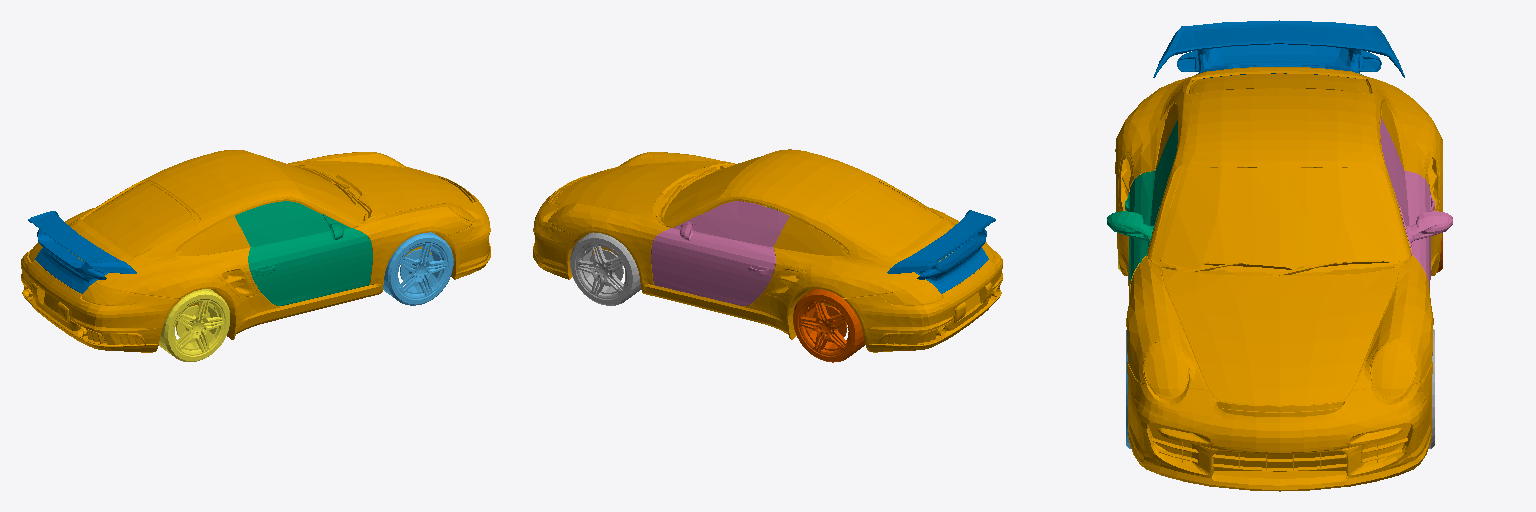
URDF robot description (predicted_car_example_1):
<?xml version="1.0"?>
<robot name="predicted_car_example_1">
  <link name="base_link">
    <visual>
      <geometry>
        <mesh filename="meshes/part_02.stl"/>
      </geometry>
    </visual>
    <visual>
      <geometry>
        <mesh filename="meshes/part_07.stl"/>
      </geometry>
    </visual>
    <visual>
      <geometry>
        <mesh filename="meshes/part_08.stl"/>
      </geometry>
    </visual>
    <visual>
      <geometry>
        <mesh filename="meshes/part_09.stl"/>
      </geometry>
    </visual>
    <visual>
      <geometry>
        <mesh filename="meshes/part_10.stl"/>
      </geometry>
    </visual>
    <visual>
      <geometry>
        <mesh filename="meshes/part_11.stl"/>
      </geometry>
    </visual>
    <visual>
      <geometry>
        <mesh filename="meshes/part_12.stl"/>
      </geometry>
    </visual>
    <visual>
      <geometry>
        <mesh filename="meshes/part_13.stl"/>
      </geometry>
    </visual>
    <visual>
      <geometry>
        <mesh filename="meshes/part_14.stl"/>
      </geometry>
    </visual>
    <visual>
      <geometry>
        <mesh filename="meshes/part_16.stl"/>
      </geometry>
    </visual>
  </link>
  <link name="link_user_sketch_1779206305003_J0">
    <visual>
      <origin xyz="-0.2641 0.1666 0.0713" rpy="0 0 0"/>
      <geometry>
        <mesh filename="meshes/part_17.stl"/>
      </geometry>
    </visual>
  </link>
  <joint name="joint_user_sketch_1779206305003_J0" type="continuous">
    <parent link="base_link"/>
    <child link="link_user_sketch_1779206305003_J0"/>
    <origin xyz="0.2641 -0.1666 -0.0713" rpy="0 0 0"/>
    <axis xyz="0.0000 -1.0000 0.0000"/>
  </joint>
  <link name="link_user_sketch_1779206305003_J1">
    <visual>
      <origin xyz="-0.1496 0.1858 0.0259" rpy="0 0 0"/>
      <geometry>
        <mesh filename="meshes/part_04.stl"/>
      </geometry>
    </visual>
  </link>
  <joint name="joint_user_sketch_1779206305003_J1" type="revolute">
    <parent link="base_link"/>
    <child link="link_user_sketch_1779206305003_J1"/>
    <origin xyz="0.1496 -0.1858 -0.0259" rpy="0 0 0"/>
    <axis xyz="0.0013 -0.0663 0.9978"/>
    <limit lower="0.0" upper="1.5708" effort="1000" velocity="1.0"/>
  </joint>
  <link name="link_user_sketch_1779206305003_J2">
    <visual>
      <origin xyz="0.2627 0.1659 0.0713" rpy="0 0 0"/>
      <geometry>
        <mesh filename="meshes/part_06.stl"/>
      </geometry>
    </visual>
  </link>
  <joint name="joint_user_sketch_1779206305003_J2" type="continuous">
    <parent link="base_link"/>
    <child link="link_user_sketch_1779206305003_J2"/>
    <origin xyz="-0.2627 -0.1659 -0.0713" rpy="0 0 0"/>
    <axis xyz="0.0000 -1.0000 0.0000"/>
  </joint>
  <link name="link_user_sketch_1779206305003_J3">
    <visual>
      <origin xyz="0.4020 -0.0029 -0.0642" rpy="0 0 0"/>
      <geometry>
        <mesh filename="meshes/part_15.stl"/>
      </geometry>
    </visual>
  </link>
  <joint name="joint_user_sketch_1779206305003_J3" type="revolute">
    <parent link="base_link"/>
    <child link="link_user_sketch_1779206305003_J3"/>
    <origin xyz="-0.4020 0.0029 0.0642" rpy="0 0 0"/>
    <axis xyz="0.0097 0.9999 -0.0076"/>
    <limit lower="0.0" upper="1.5708" effort="1000" velocity="1.0"/>
  </joint>
  <link name="link_user_sketch_1779206305003_J4">
    <visual>
      <origin xyz="0.2627 -0.1713 0.0713" rpy="0 0 0"/>
      <geometry>
        <mesh filename="meshes/part_05.stl"/>
      </geometry>
    </visual>
  </link>
  <joint name="joint_user_sketch_1779206305003_J4" type="continuous">
    <parent link="base_link"/>
    <child link="link_user_sketch_1779206305003_J4"/>
    <origin xyz="-0.2627 0.1713 -0.0713" rpy="0 0 0"/>
    <axis xyz="0.0000 1.0000 0.0000"/>
  </joint>
  <link name="link_user_sketch_1779206305003_J5">
    <visual>
      <origin xyz="-0.1487 -0.1866 0.0282" rpy="0 0 0"/>
      <geometry>
        <mesh filename="meshes/part_03.stl"/>
      </geometry>
    </visual>
  </link>
  <joint name="joint_user_sketch_1779206305003_J5" type="revolute">
    <parent link="base_link"/>
    <child link="link_user_sketch_1779206305003_J5"/>
    <origin xyz="0.1487 0.1866 -0.0282" rpy="0 0 0"/>
    <axis xyz="-0.0123 -0.0408 -0.9991"/>
    <limit lower="0.0" upper="1.5708" effort="1000" velocity="1.0"/>
  </joint>
  <link name="link_user_sketch_1779206305003_J6">
    <visual>
      <origin xyz="-0.2643 -0.1677 0.0713" rpy="0 0 0"/>
      <geometry>
        <mesh filename="meshes/part_00.stl"/>
      </geometry>
    </visual>
  </link>
  <joint name="joint_user_sketch_1779206305003_J6" type="continuous">
    <parent link="base_link"/>
    <child link="link_user_sketch_1779206305003_J6"/>
    <origin xyz="0.2643 0.1677 -0.0713" rpy="0 0 0"/>
    <axis xyz="0.0000 1.0000 0.0000"/>
  </joint>
  <link name="link_user_sketch_1779206305003_J7">
    <visual>
      <origin xyz="-0.4400 0.0274 0.0062" rpy="0 0 0"/>
      <geometry>
        <mesh filename="meshes/part_01.stl"/>
      </geometry>
    </visual>
  </link>
  <joint name="joint_user_sketch_1779206305003_J7" type="revolute">
    <parent link="base_link"/>
    <child link="link_user_sketch_1779206305003_J7"/>
    <origin xyz="0.4400 -0.0274 -0.0062" rpy="0 0 0"/>
    <axis xyz="0.0170 0.9994 0.0298"/>
    <limit lower="0.0" upper="1.5708" effort="1000" velocity="1.0"/>
  </joint>
</robot>

--- Facts derived from the render (not from the file) ---
The picture shows the robot from 3 angles, left to right: view 1: azimuth 30°, elevation 25°; view 2: azimuth 150°, elevation 25°; view 3: azimuth 270°, elevation 25°; orthographic projection.
Model predicted_car_example_1 with 9 links and 8 joints (4 revolute, 4 continuous), rooted at base_link, posed every joint at zero.
Visible links, largest first — view 1: base_link, link_user_sketch_1779206305003_J1, link_user_sketch_1779206305003_J7, link_user_sketch_1779206305003_J3, link_user_sketch_1779206305003_J0, link_user_sketch_1779206305003_J2; view 2: base_link, link_user_sketch_1779206305003_J5, link_user_sketch_1779206305003_J7, link_user_sketch_1779206305003_J3, link_user_sketch_1779206305003_J4, link_user_sketch_1779206305003_J6; view 3: base_link, link_user_sketch_1779206305003_J7, link_user_sketch_1779206305003_J3, link_user_sketch_1779206305003_J5, link_user_sketch_1779206305003_J1.
Boxes of the visible links, <box> form: base_link: <box>21,150,490,352</box>; link_user_sketch_1779206305003_J1: <box>235,201,372,305</box>; link_user_sketch_1779206305003_J7: <box>298,161,467,216</box>; link_user_sketch_1779206305003_J3: <box>28,211,136,293</box>; link_user_sketch_1779206305003_J0: <box>383,232,453,305</box>; link_user_sketch_1779206305003_J2: <box>159,289,229,361</box>; base_link: <box>533,149,1002,352</box>; link_user_sketch_1779206305003_J5: <box>651,201,789,305</box>; link_user_sketch_1779206305003_J7: <box>555,161,724,216</box>; link_user_sketch_1779206305003_J3: <box>887,210,995,293</box>; link_user_sketch_1779206305003_J4: <box>793,288,864,362</box>; link_user_sketch_1779206305003_J6: <box>570,232,640,305</box>; base_link: <box>1115,67,1442,491</box>; link_user_sketch_1779206305003_J7: <box>1162,268,1397,405</box>; link_user_sketch_1779206305003_J3: <box>1153,20,1404,78</box>; link_user_sketch_1779206305003_J5: <box>1380,117,1452,288</box>; link_user_sketch_1779206305003_J1: <box>1107,120,1177,283</box>.
Size in the robot's own frame: 1 by 0.4384 by 0.298 metres.
18 mesh visuals loaded from 18 distinct referenced files (18 binary STL).
